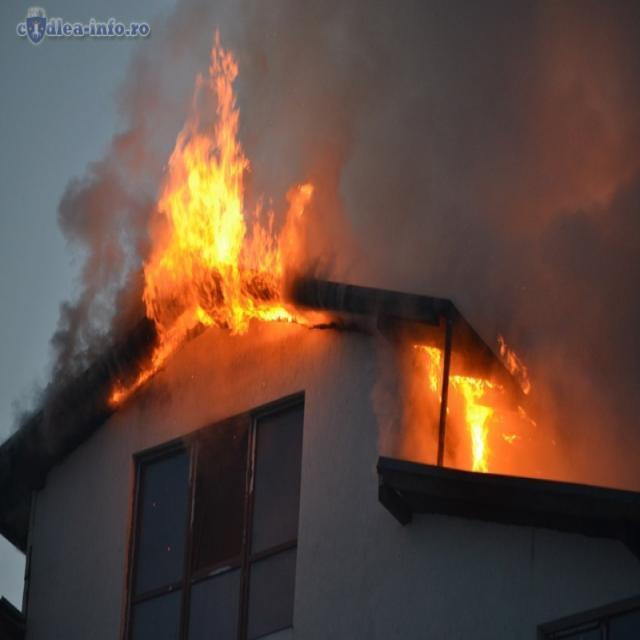Fire: (138, 40, 328, 387), (418, 328, 514, 478)
Smoke: (260, 0, 640, 355), (30, 76, 176, 394)
